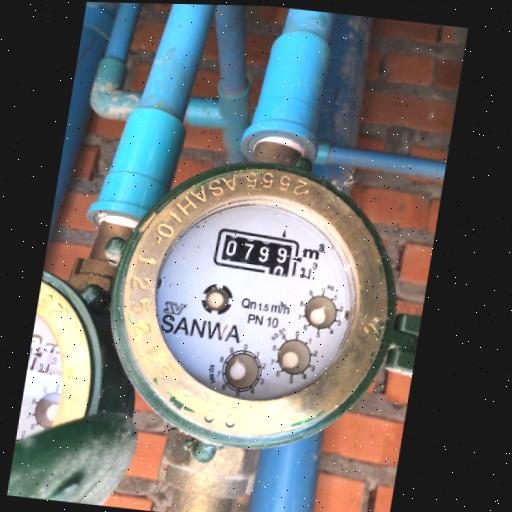0: (218, 235, 242, 263)
7: (235, 236, 258, 265)
9: (268, 242, 294, 277), (252, 239, 275, 268)
border_water_meter_number: (210, 228, 303, 278)
